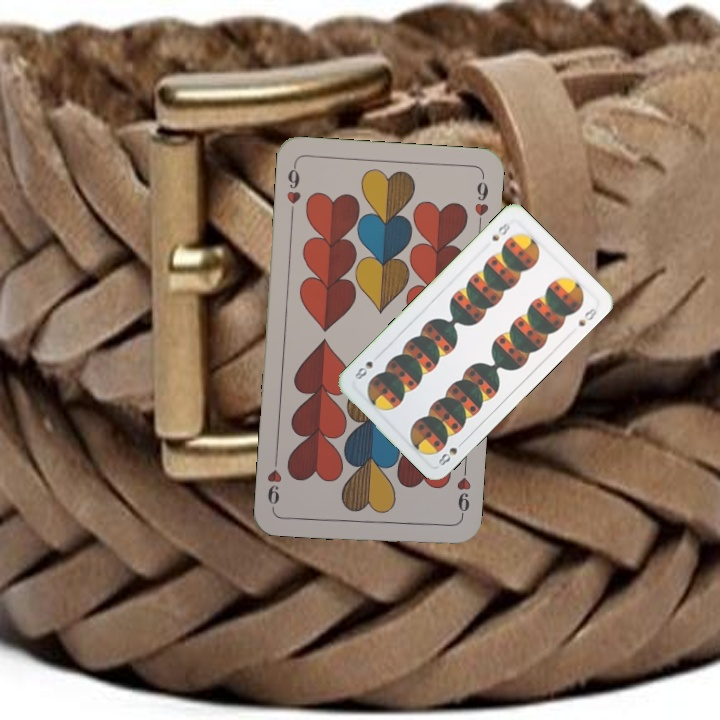H9: (452, 462, 474, 521), (283, 161, 304, 220)
S8: (434, 436, 467, 468), (487, 218, 512, 244)
